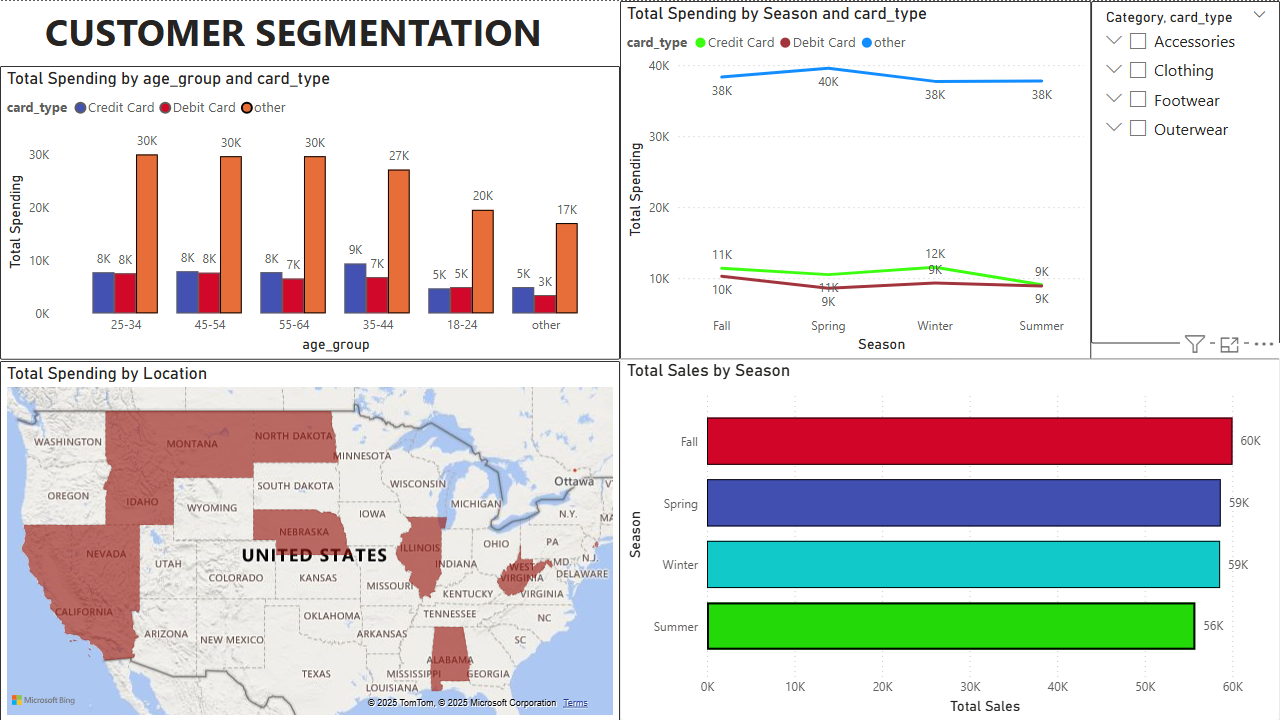

The dashboard page shown, as its layout file describes it:
{"tool":"powerbi","page":{"name":"Page 2","canvas":[1280,720],"ordinal":1},"visuals":[{"type":"clusteredColumnChart","fields":{"Category":["customer segmentation.age_group"],"Y":["customer segmentation.Total Spending"],"Series":["customer segmentation.card_type"]},"box":[0,64.8,620,293.5],"z":0},{"type":"filledMap","fields":{"Category":["customer segmentation.Location"],"Y":["customer segmentation.Total Spending"]},"box":[0,359.5,620,360.7],"z":1000},{"type":"lineChart","fields":{"Y":["customer segmentation.Total Spending"],"Category":["customer segmentation.Season"],"Series":["customer segmentation.card_type"]},"box":[620,0,471.1,358.9],"z":2000},{"type":"slicer","fields":{"Values":["customer segmentation.Category","customer segmentation.card_type"]},"box":[1091.1,0,188.9,342.2],"z":3000},{"type":"barChart","fields":{"Category":["customer segmentation.Season"],"Y":["customer segmentation.Total Sales"]},"box":[620,357.5,660,362.5],"z":4000},{"type":"textbox","box":[0,0,620,64.8],"z":4001}]}

Visuals, with their boxes in screenshot pixels (x1, y1, x2, y2), scaled from the page's 1280x720 canvas onto the 1280x720 screenshot:
clusteredColumnChart - customer segmentation.age_group x customer segmentation.Total Spending: 0, 65, 620, 358
filledMap - customer segmentation.Location x customer segmentation.Total Spending: 0, 360, 620, 719
lineChart - customer segmentation.Total Spending x customer segmentation.Season: 620, 0, 1091, 359
slicer - customer segmentation.Category x customer segmentation.card_type: 1091, 0, 1279, 342
barChart - customer segmentation.Season x customer segmentation.Total Sales: 620, 358, 1279, 719
textbox: 0, 0, 620, 65
